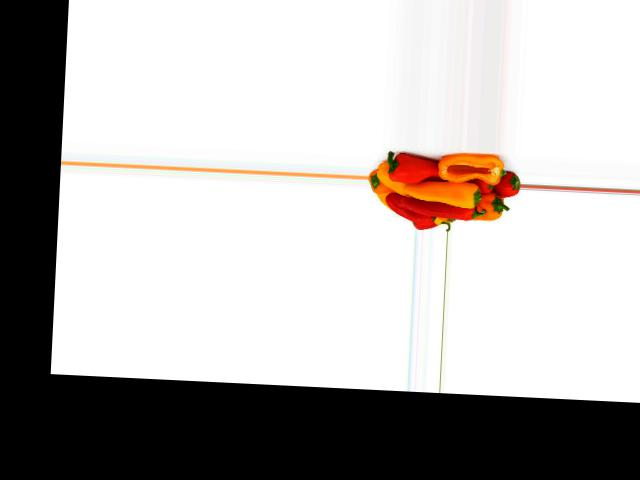bell_pepper: (476, 170, 521, 202)
